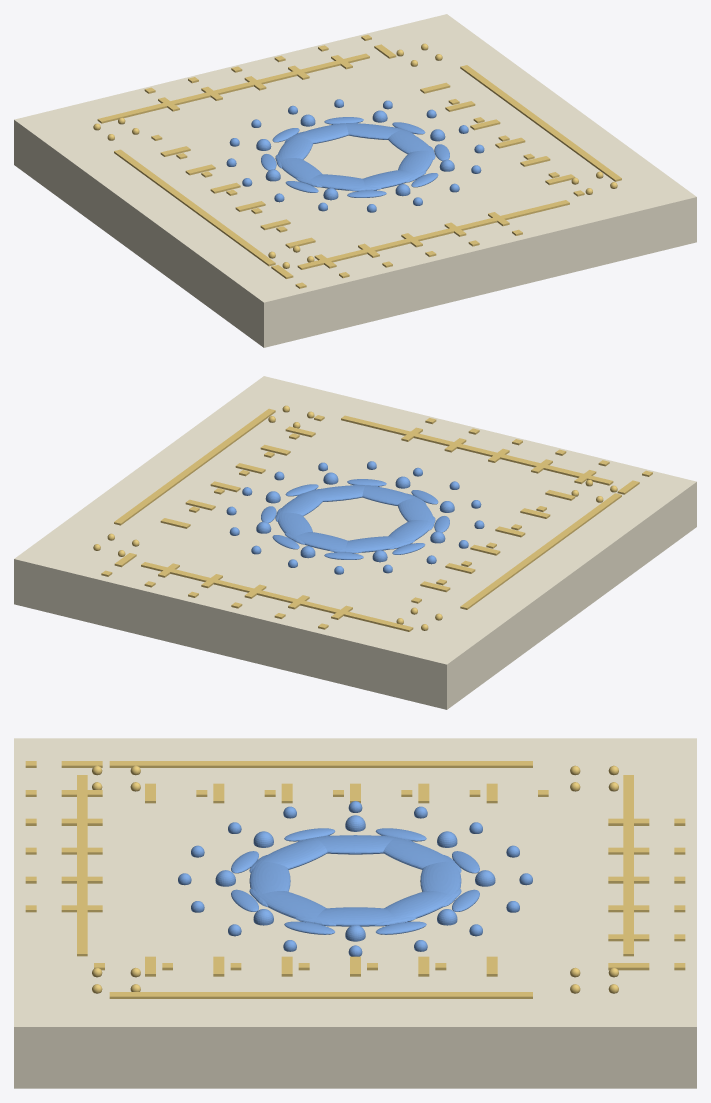
Rendered from ekdesen.fbx.
3 renders of one model, top to bottom at view 1: azimuth 30°, elevation 25°; view 2: azimuth 150°, elevation 25°; view 3: azimuth 270°, elevation 25°, orthographic. The views are drawn at different scales.
Visible parts, largest first — view 1: Tile_Base, Main_Petal_5, Main_Petal_6, Main_Petal_1, Main_Petal_4, Main_Petal_2, Main_Petal_7, Main_Petal_0, Main_Petal_3; view 2: Tile_Base, Main_Petal_3, Main_Petal_2, Main_Petal_7, Main_Petal_4, Main_Petal_6, Main_Petal_1, Main_Petal_0, Main_Petal_5; view 3: Tile_Base, Main_Petal_0, Main_Petal_1, Main_Petal_7, Main_Petal_4, Main_Petal_3, Main_Petal_5, Main_Petal_6, Main_Petal_2, Cube.054, Cube.036, Cube.042 (+4 smaller).
Part boxes in pixels (x1,y1,x2,y2): Tile_Base: (14,14,696,347); Main_Petal_5: (296,174,381,190); Main_Petal_6: (349,170,426,191); Main_Petal_1: (332,123,414,139); Main_Petal_4: (275,154,322,187); Main_Petal_2: (284,123,357,143); Main_Petal_7: (398,146,433,182); Main_Petal_0: (388,127,435,159); Main_Petal_3: (276,131,313,168); Tile_Base: (14,376,696,709); Main_Petal_3: (329,536,414,552); Main_Petal_2: (284,532,361,553); Main_Petal_7: (296,485,378,501); Main_Petal_4: (388,516,435,549); Main_Petal_6: (353,485,426,505); Main_Petal_1: (277,508,312,544); Main_Petal_0: (275,489,322,521); Main_Petal_5: (397,493,434,530); Tile_Base: (14,738,696,1088); Main_Petal_0: (295,907,415,926); Main_Petal_1: (374,888,461,926); Main_Petal_7: (249,888,336,926); Main_Petal_4: (296,835,414,854); Main_Petal_3: (378,835,461,872); Main_Petal_5: (249,835,332,872); Main_Petal_6: (249,855,290,906); Main_Petal_2: (420,855,461,906); Cube.054: (109,992,191,998); Cube.036: (109,761,191,767); Cube.042: (246,761,328,767).
Bounding box in the file's own units: 2 × 0.237 × 2.
